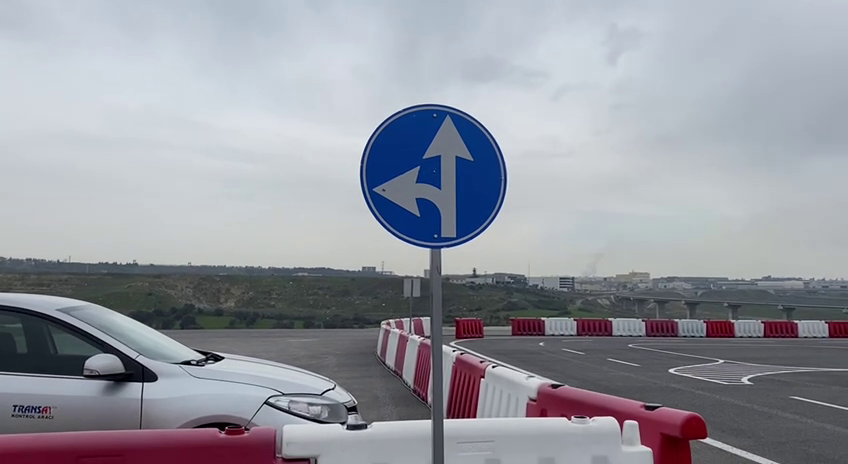forwardAndLeft: (355, 99, 512, 253)
